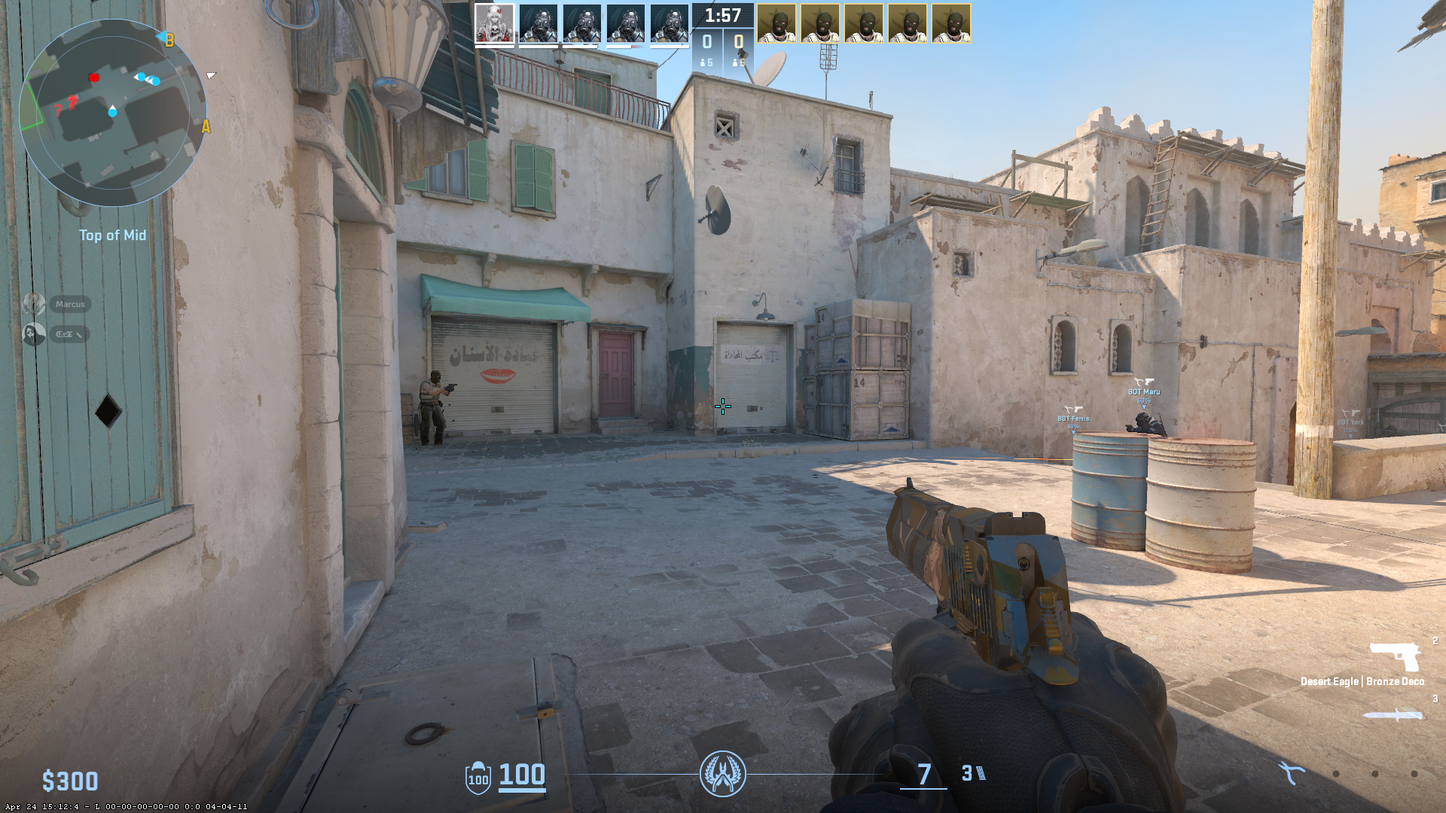CT: (1126, 411, 1167, 436)
T: (416, 369, 455, 447)
